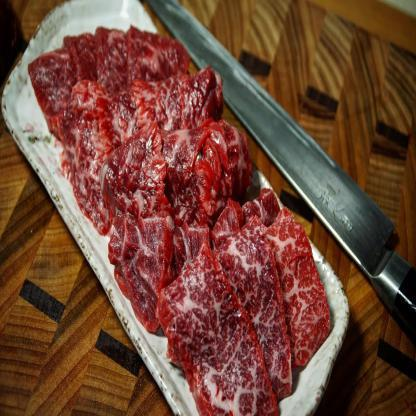beef: (44, 36, 324, 416)
